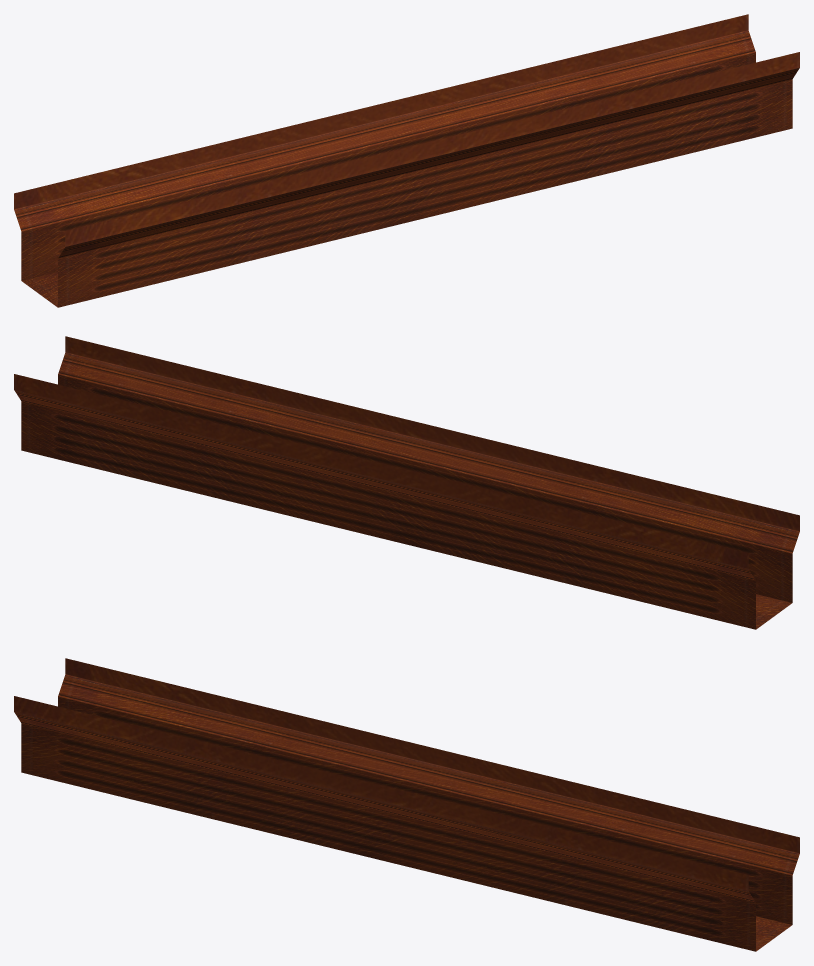
Rendered from Ceilingblock2.fbx.
The picture shows the model from 3 angles, top to bottom: view 1: azimuth 30°, elevation 25°; view 2: azimuth 150°, elevation 25°; view 3: azimuth 330°, elevation 25°; orthographic projection.
Visible parts, largest first — view 1: Cube.008; view 2: Cube.008; view 3: Cube.008.
Part boxes in pixels (x1,y1,x2,y2): Cube.008: (14, 14, 799, 307); Cube.008: (14, 336, 799, 629); Cube.008: (14, 658, 799, 951).
Size of the model in its own units: 2320 by 248 by 281.
